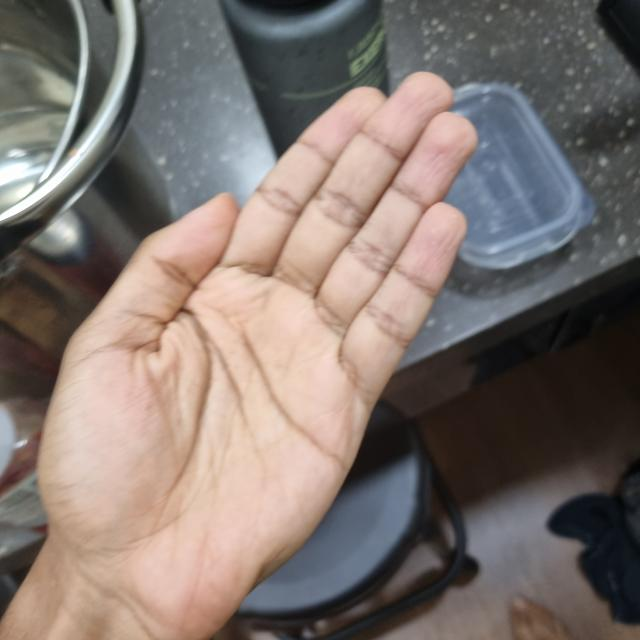Paper: (36, 189, 382, 636)
